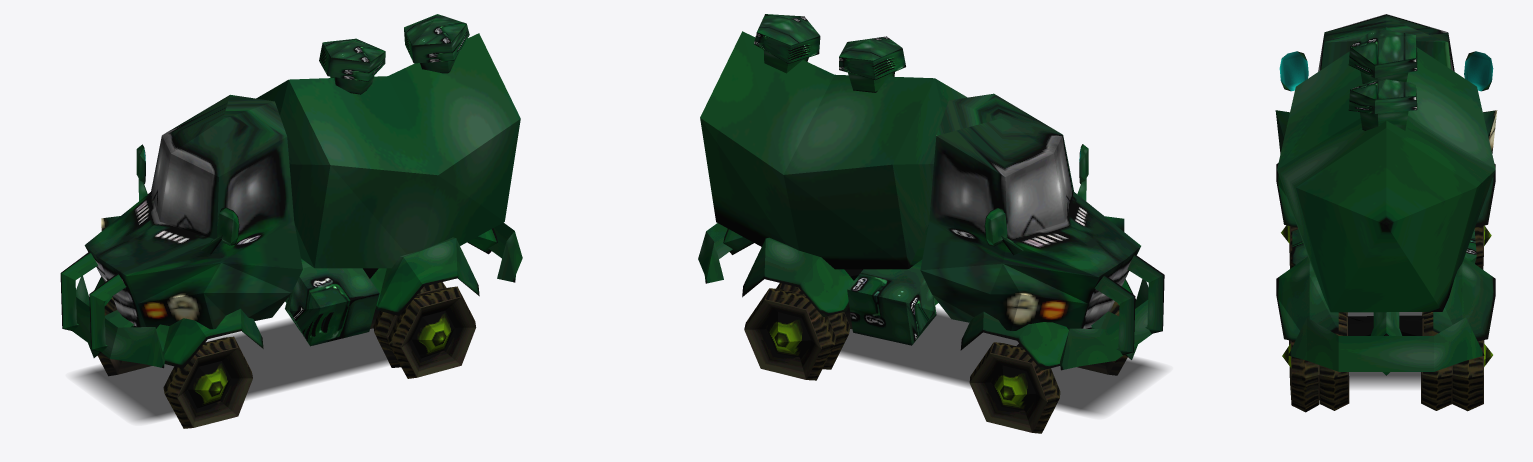
The model's file is LKW_Kaserne_gas_1_new [Copy 1]_2828.glb.
3 renders of one model, left to right at view 1: azimuth 30°, elevation 25°; view 2: azimuth 150°, elevation 25°; view 3: azimuth 270°, elevation 25°, orthographic. The views are drawn at different scales.
Parts seen in each view (by area): view 1: pSphereShape26, polySurfaceShape47, pPlaneShape11, polySurfaceShape75, hrlShape, pSphereShape29, vrlShape, pPlaneShape10, pSphereShape19, pPlaneShape12, pCylinderShape16, pCylinderShape14 (+7 smaller); view 2: pSphereShape26, polySurfaceShape47, polySurfaceShape42, pPlaneShape11, hrrShape, vrrShape, pSphereShape17, pPlaneShape9, pSphereShape19, pPlaneShape18, pCylinderShape16, pCylinderShape14 (+6 smaller); view 3: pSphereShape26, pSphereShape25, polySurfaceShape47, pPlaneShape10, pPlaneShape9, pCylinderShape14, pCylinderShape16, hrrShape, hrlShape, hrr2Shape, hrl2Shape, pPlaneShape11 (+11 smaller).
Boxes of the visible parts, <box> form: pSphereShape26: <box>256,33,520,268</box>; polySurfaceShape47: <box>84,94,286,329</box>; pPlaneShape11: <box>74,309,449,422</box>; polySurfaceShape75: <box>217,137,302,320</box>; hrlShape: <box>388,286,476,378</box>; pSphereShape29: <box>285,266,379,346</box>; vrlShape: <box>163,336,252,428</box>; pPlaneShape10: <box>370,237,479,315</box>; pSphereShape19: <box>72,275,164,368</box>; pPlaneShape12: <box>156,308,263,368</box>; pCylinderShape16: <box>404,14,469,63</box>; pCylinderShape14: <box>319,38,385,81</box>; pSphereShape26: <box>700,31,967,269</box>; polySurfaceShape47: <box>936,93,1140,330</box>; polySurfaceShape42: <box>920,136,1006,322</box>; pPlaneShape11: <box>831,307,1164,415</box>; hrrShape: <box>744,288,836,380</box>; vrrShape: <box>969,342,1060,433</box>; pSphereShape17: <box>847,267,936,345</box>; pPlaneShape9: <box>742,237,853,317</box>; pSphereShape19: <box>1060,279,1152,370</box>; pPlaneShape18: <box>960,311,1068,370</box>; pCylinderShape16: <box>754,14,820,63</box>; pCylinderShape14: <box>839,36,905,80</box>; pSphereShape26: <box>1277,27,1495,312</box>; pSphereShape25: <box>1288,317,1484,371</box>; polySurfaceShape47: <box>1275,14,1497,153</box>; pPlaneShape10: <box>1276,256,1338,341</box>; pPlaneShape9: <box>1433,257,1495,341</box>; pCylinderShape14: <box>1348,28,1417,78</box>; pCylinderShape16: <box>1348,79,1417,113</box>; hrrShape: <box>1452,340,1492,411</box>; hrlShape: <box>1282,340,1319,412</box>; hrr2Shape: <box>1421,312,1452,410</box>; hrl2Shape: <box>1319,312,1349,410</box>; pPlaneShape11: <box>1348,312,1422,387</box>.
Bounding box in the file's own units: 0.7526 × 0.4926 × 0.3584.
38 materials, 33 textured.
